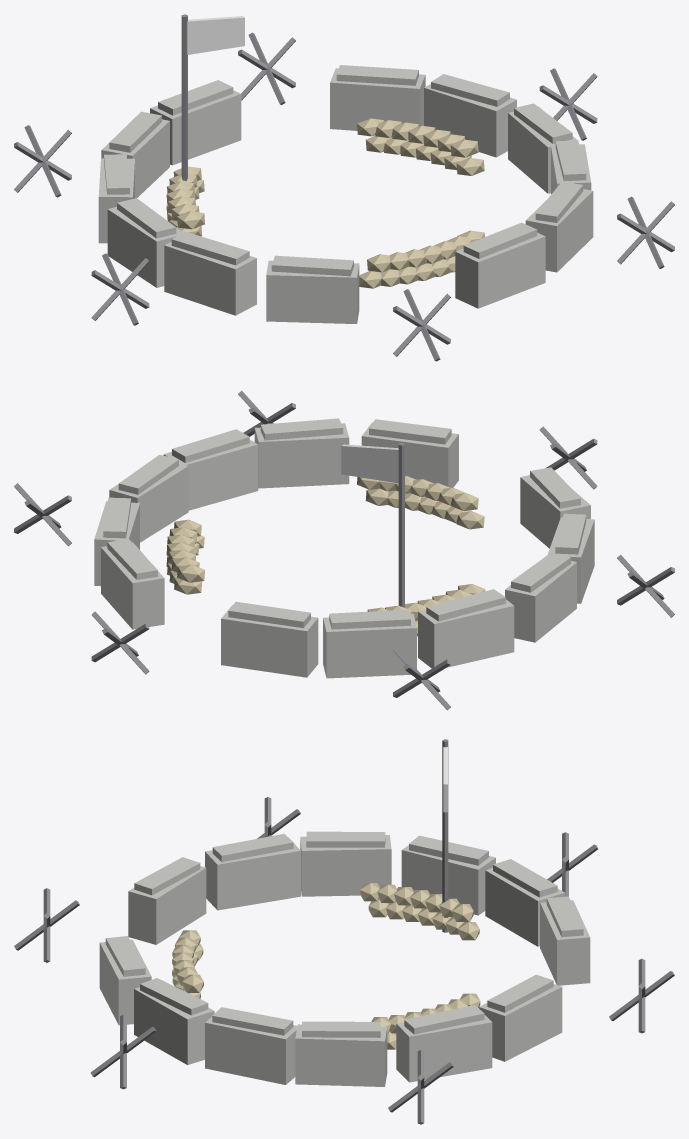
The model's file is civ_barricade.glb.
3 renders of one model, top to bottom at view 1: azimuth 30°, elevation 25°; view 2: azimuth 150°, elevation 25°; view 3: azimuth 270°, elevation 25°, orthographic.
Visible parts, largest first — view 1: civ_barricade; view 2: civ_barricade; view 3: civ_barricade.
Boxes of the visible parts, x1=… form: civ_barricade: x1=14, y1=14, x2=674, y2=361; civ_barricade: x1=14, y1=390, x2=674, y2=710; civ_barricade: x1=14, y1=739, x2=674, y2=1124.
Bounding box in the file's own units: 2.37 × 0.7593 × 2.35.
